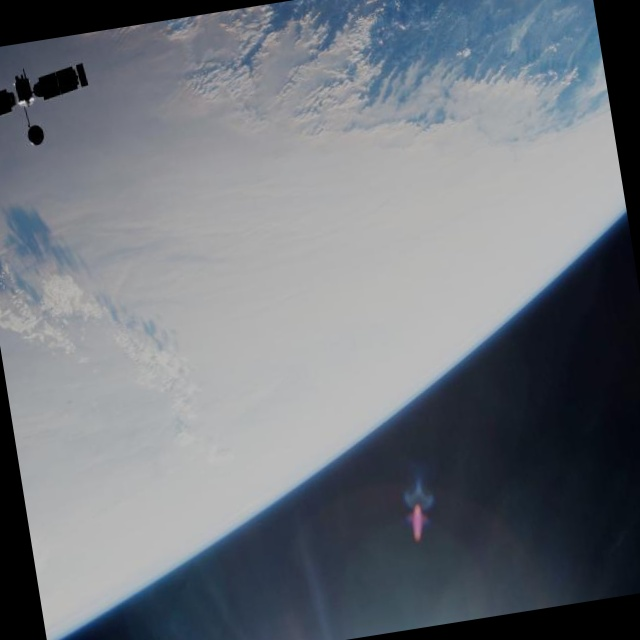satellite: (0, 29, 130, 169)
